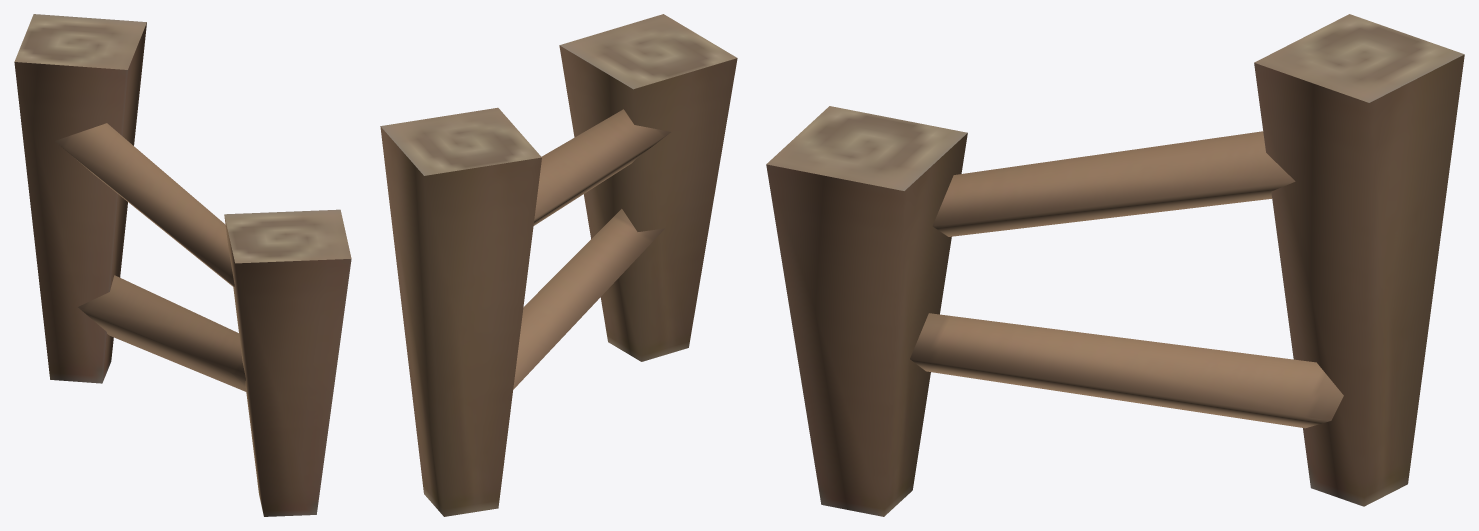
The model's file is field2_camp_fence_01_shadow.fbx.
The picture shows the model from 3 angles, left to right: view 1: azimuth 30°, elevation 25°; view 2: azimuth 150°, elevation 25°; view 3: azimuth 270°, elevation 25°; orthographic projection. The views are drawn at different scales.
Parts seen in each view (by area): view 1: field2_camp_fence_01_shadow; view 2: field2_camp_fence_01_shadow; view 3: field2_camp_fence_01_shadow.
Part boxes in pixels (left/top/right/bottom): field2_camp_fence_01_shadow: left=14, top=14, right=351, bottom=516; field2_camp_fence_01_shadow: left=380, top=14, right=737, bottom=516; field2_camp_fence_01_shadow: left=766, top=14, right=1464, bottom=516.
Size of the model in its own units: 14.13 by 28.59 by 42.32.
